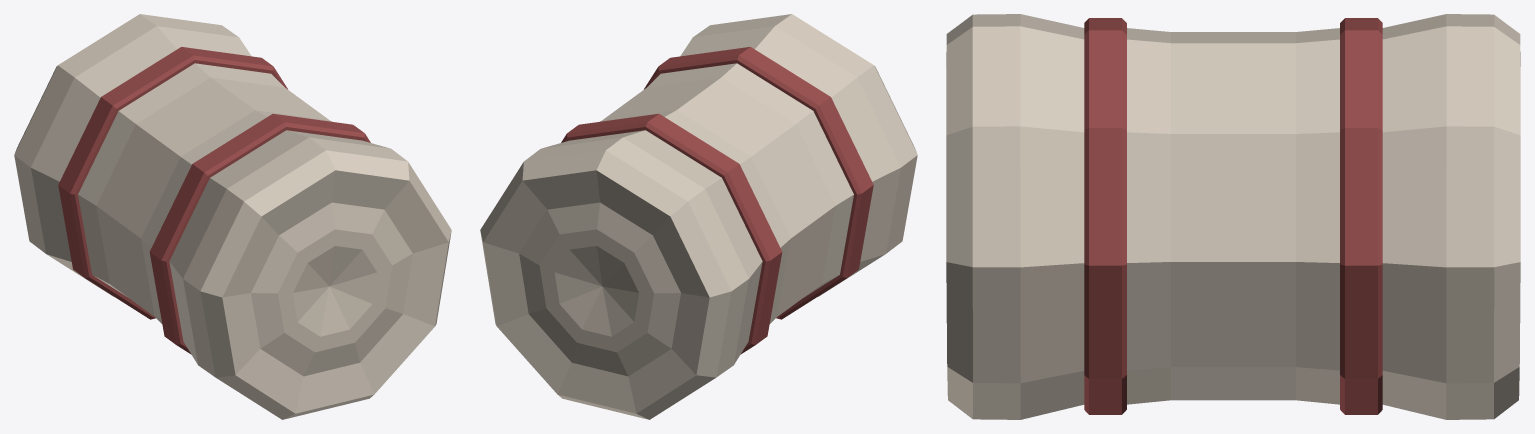
Rendered from HayBale.fbx.
The picture shows the model from 3 angles, left to right: view 1: azimuth 30°, elevation 25°; view 2: azimuth 150°, elevation 25°; view 3: azimuth 270°, elevation 25°; orthographic projection. The views are drawn at different scales.
Visible parts, largest first — view 1: Hay_Bale; view 2: Hay_Bale; view 3: Hay_Bale.
Boxes of the visible parts, left/top/right/bottom form: Hay_Bale: left=14, top=14, right=451, bottom=419; Hay_Bale: left=480, top=14, right=917, bottom=419; Hay_Bale: left=946, top=14, right=1520, bottom=419.
Size of the model in its own units: 2.12 by 2.09 by 2.99.
